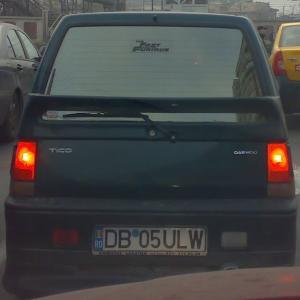Vehicle-registration-plate: (87, 228, 218, 263)
